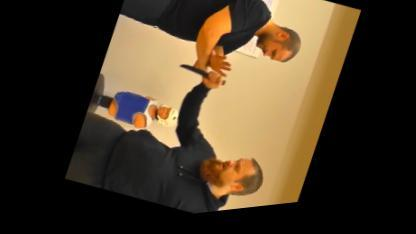knife: (174, 59, 230, 97)
